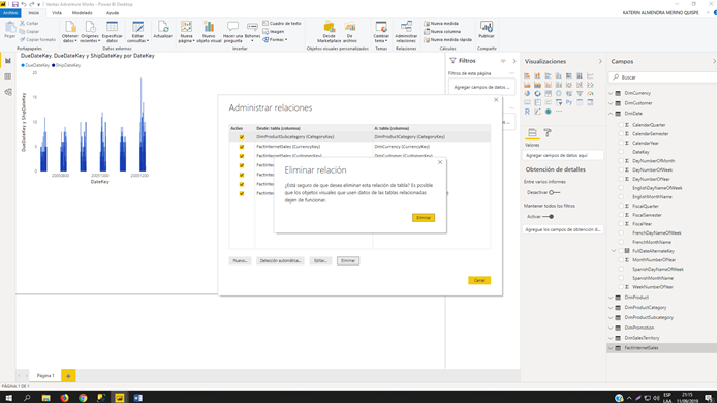

The page's visual inventory and layout, read from the dashboard file:
{"tool":"powerbi","page":{"name":"Página 1","canvas":[1280,720],"ordinal":0},"visuals":[{"type":"clusteredColumnChart","fields":{"Y":["CountNonNull(FactInternetSales.DueDateKey)","CountNonNull(FactInternetSales.DueDateKey)","CountNonNull(FactInternetSales.ShipDateKey)"],"Category":["DimDate.DateKey"]},"box":[10.1,0,450.9,398.3],"z":0},{"type":"clusteredColumnChart","fields":{"Y":["CountNonNull(DimProductSubcategory.CategoryKey)","CountNonNull(DimProductCategory.CategoryKey)"]},"box":[461,0,483.4,360.3],"z":1000}]}

Visuals, with their boxes on the page's 1280x720 design canvas (x1, y1, x2, y2). These are canvas units, not pixel positions in the 717x403 screenshot, which may show the page scaled, cropped or inside an application window:
clusteredColumnChart - CountNonNull(FactInternetSales.DueDateKey) x CountNonNull(FactInternetSales.DueDateKey): <region>10, 0, 461, 398</region>
clusteredColumnChart - CountNonNull(DimProductSubcategory.CategoryKey) x CountNonNull(DimProductCategory.CategoryKey): <region>461, 0, 944, 360</region>
